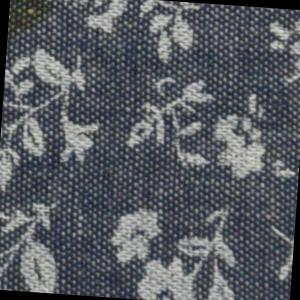Oil Stain: (7, 1, 58, 55)
